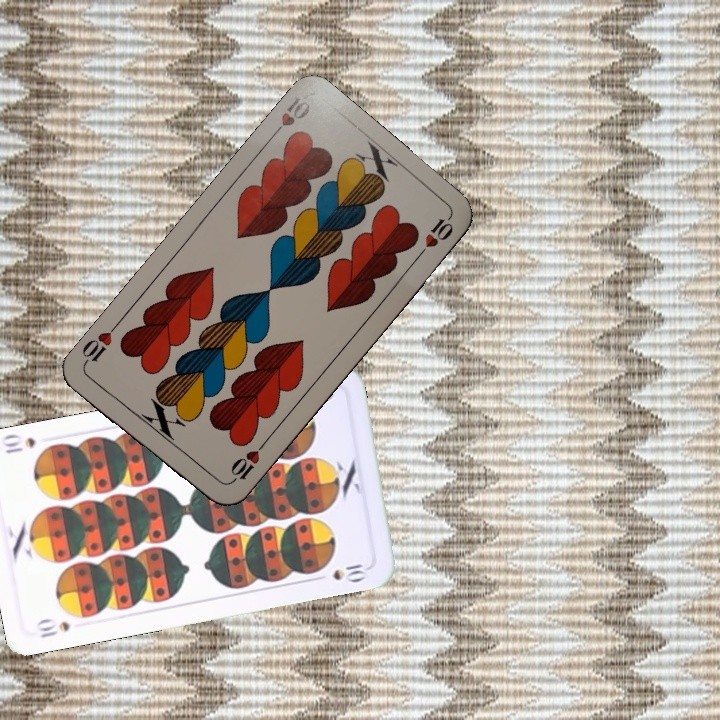H10: (265, 92, 315, 142), (225, 438, 268, 487)
S10: (32, 615, 73, 641)
